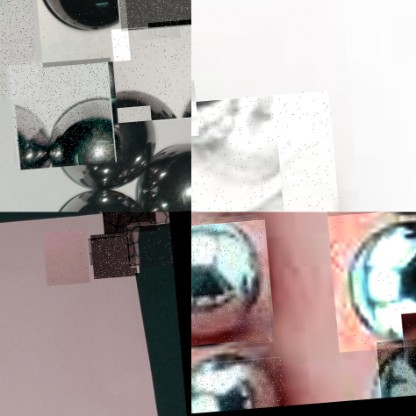ironball: (191, 95, 333, 211), (322, 211, 415, 355), (5, 60, 114, 168), (191, 218, 265, 351), (108, 26, 191, 127), (32, 0, 127, 69), (191, 358, 279, 415), (0, 0, 36, 104), (141, 145, 194, 214), (369, 340, 415, 401), (111, 0, 191, 34), (40, 233, 87, 289), (125, 225, 171, 273), (88, 236, 134, 283), (99, 211, 155, 239)
